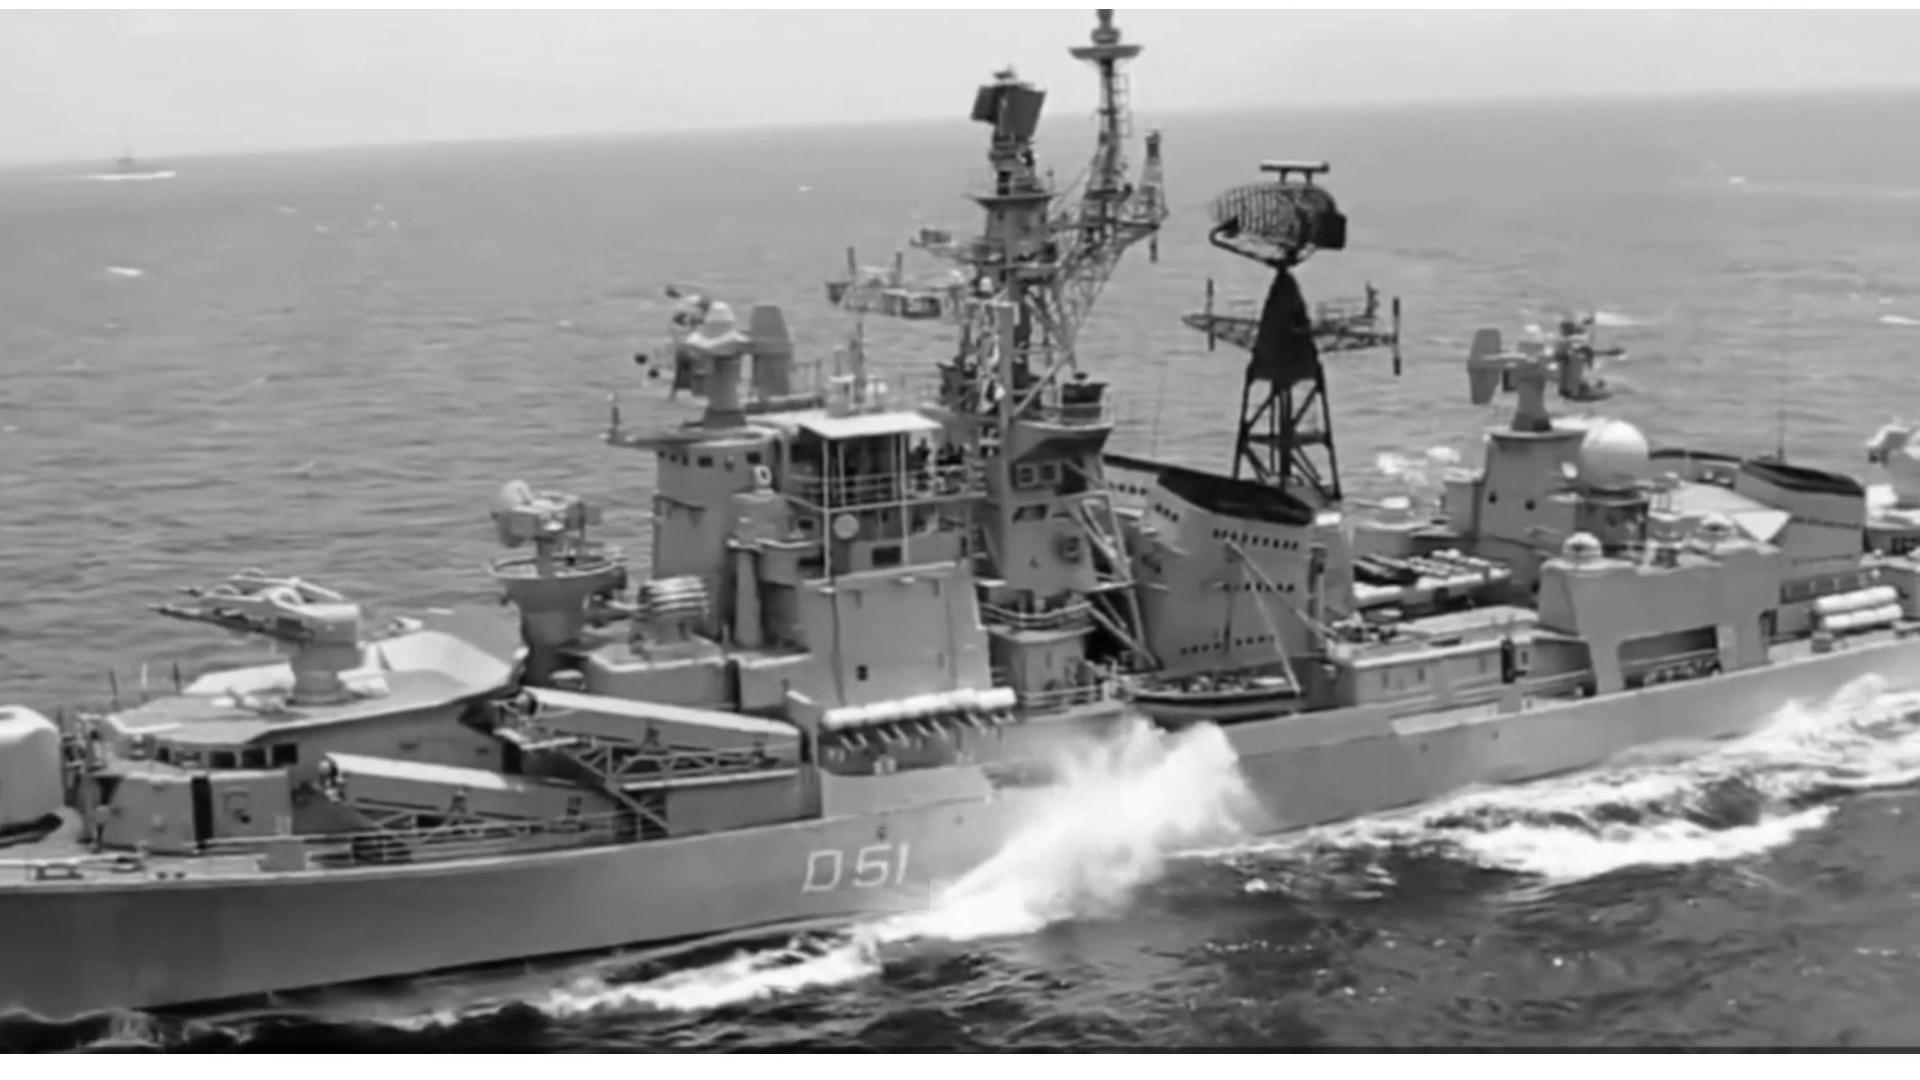OCR: (778, 824, 930, 910)
